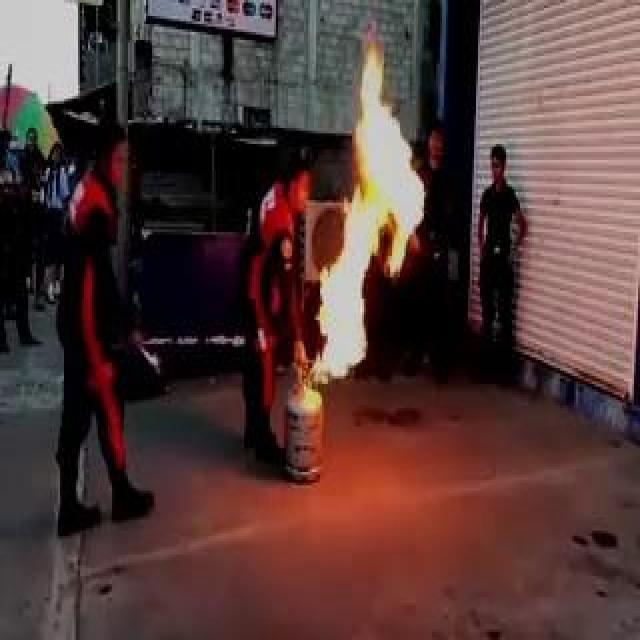Smoke: (302, 123, 402, 403)
